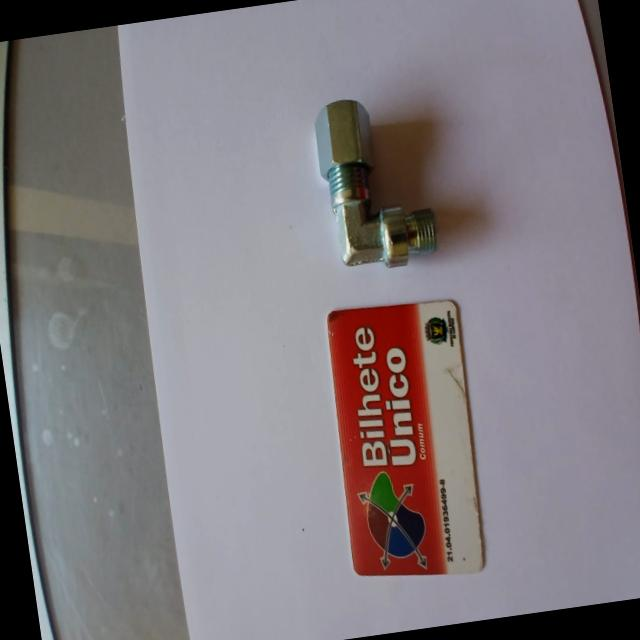cartao: (318, 296, 492, 588)
rosca_externa: (314, 88, 442, 277)
